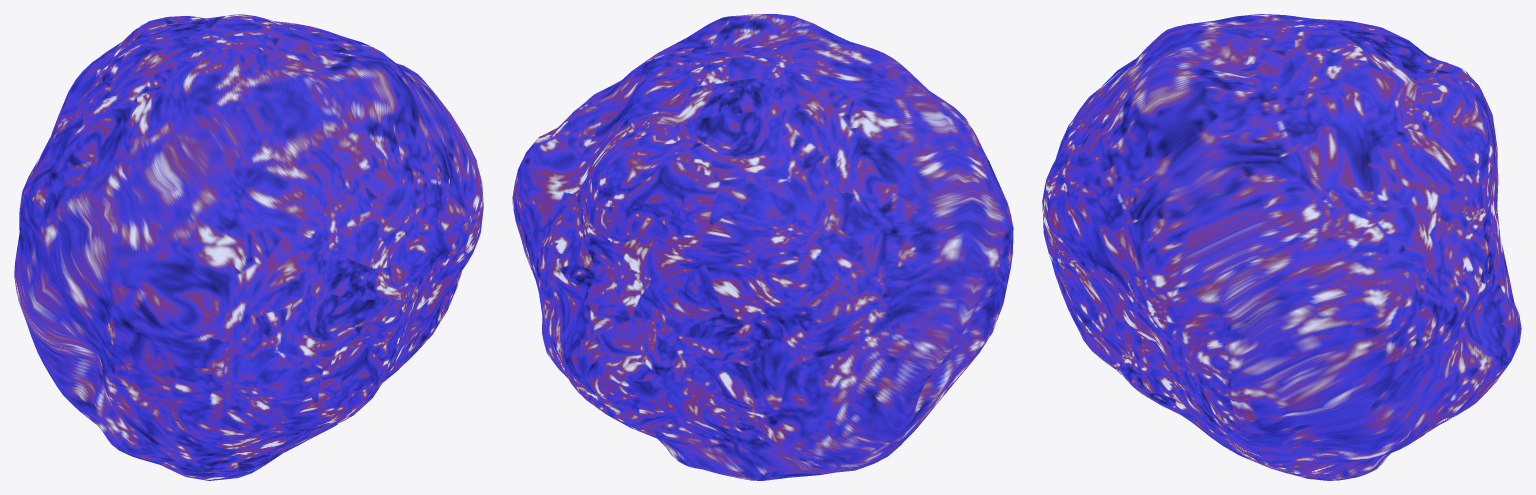
File: cassiopeia_outer_shockwave.glb
3 views of the same model, side by side, from view 1: azimuth 30°, elevation 25°; view 2: azimuth 150°, elevation 25°; view 3: azimuth 270°, elevation 25° (orthographic). The views are drawn at different scales.
Visible parts, largest first — view 1: ShockWave_Outer_baked.001; view 2: ShockWave_Outer_baked.001; view 3: ShockWave_Outer_baked.001.
Part boxes in pixels (<box>): ShockWave_Outer_baked.001: <box>14,14,483,480</box>; ShockWave_Outer_baked.001: <box>512,14,1013,480</box>; ShockWave_Outer_baked.001: <box>1042,14,1521,480</box>.
Size of the model in its own units: 91.84 by 86.68 by 86.54.
Materials: 1 (1 with a texture image).
